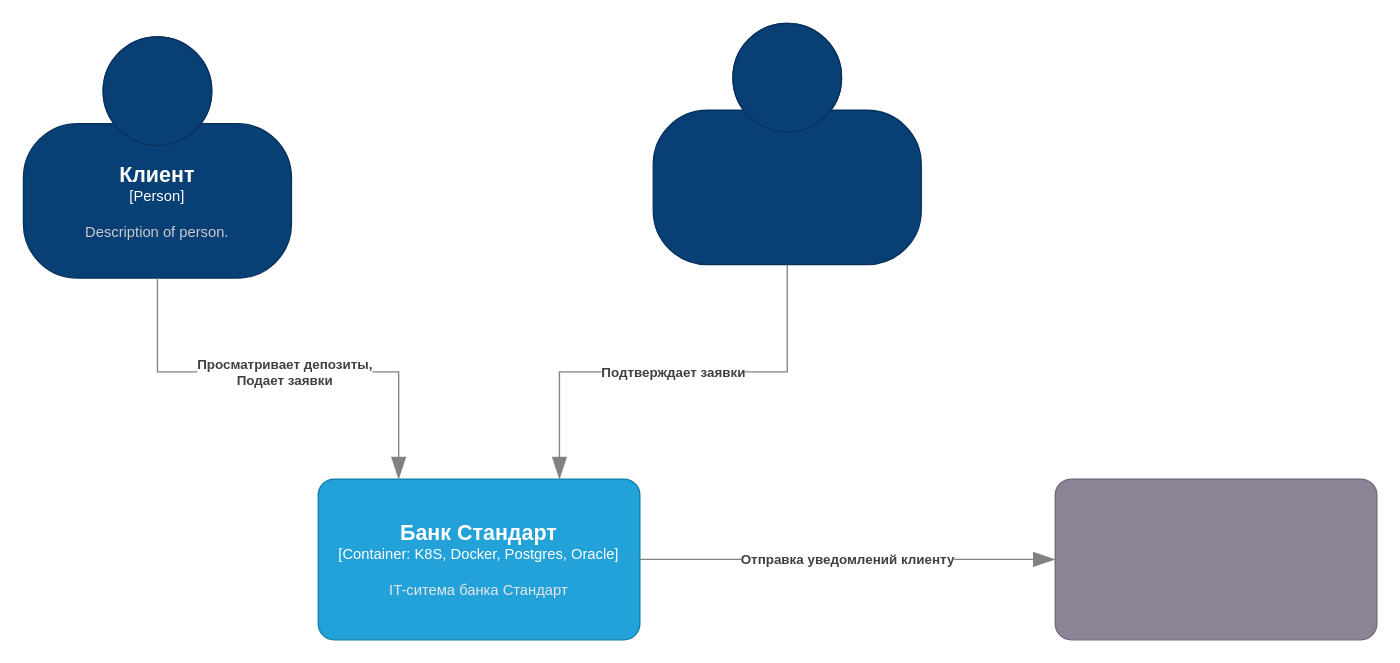
Some shapes in this 1400 by 663 pixel diagram are drawn without their labels. The shapes that lost their labels are listed below. From the top down, each one's centre as x and y in pixels, then its label:
point 786,143: Менеджер [Person] Description of person.
point 1215,559: Система телеком-оператора [Software System] Отправка СМС сообщений
